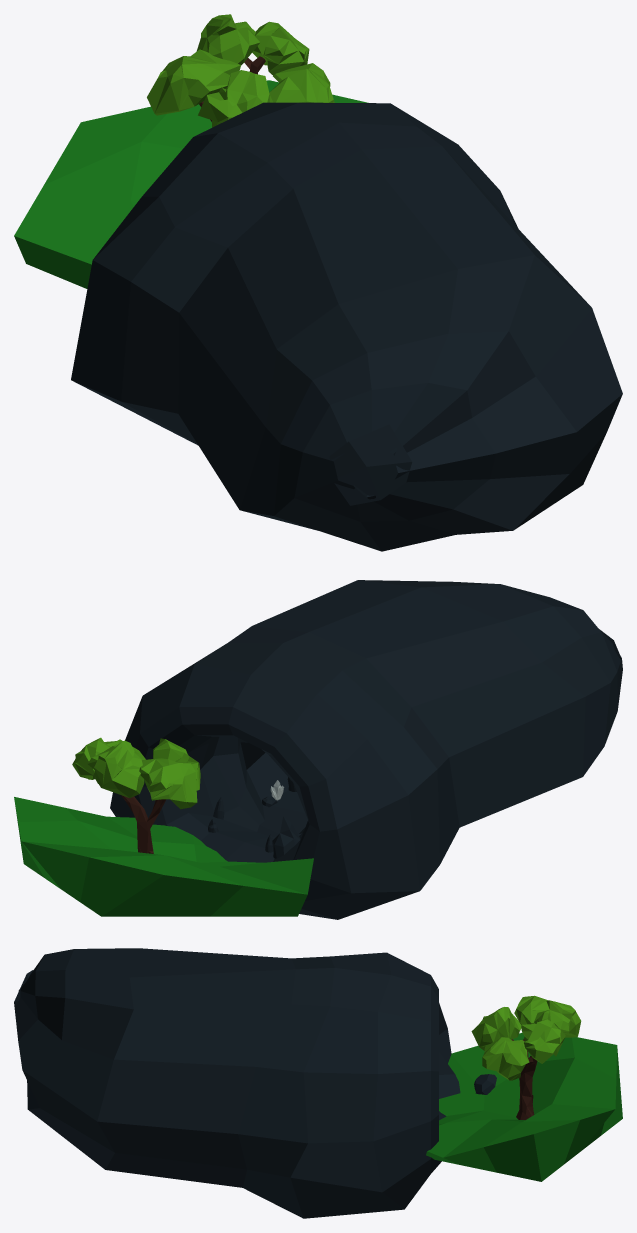
3 renders of one model, top to bottom at view 1: azimuth 30°, elevation 25°; view 2: azimuth 150°, elevation 25°; view 3: azimuth 270°, elevation 25°, orthographic. The views are drawn at different scales.
Parts seen in each view (by area): view 1: group96187052; view 2: group96187052; view 3: group96187052.
Boxes of the visible parts, x1,y1,x2,y2 form: group96187052: (14,14,622,551); group96187052: (14,580,622,919); group96187052: (14,948,622,1218).
Size of the model in its own units: 3.21 by 2.08 by 5.5.
